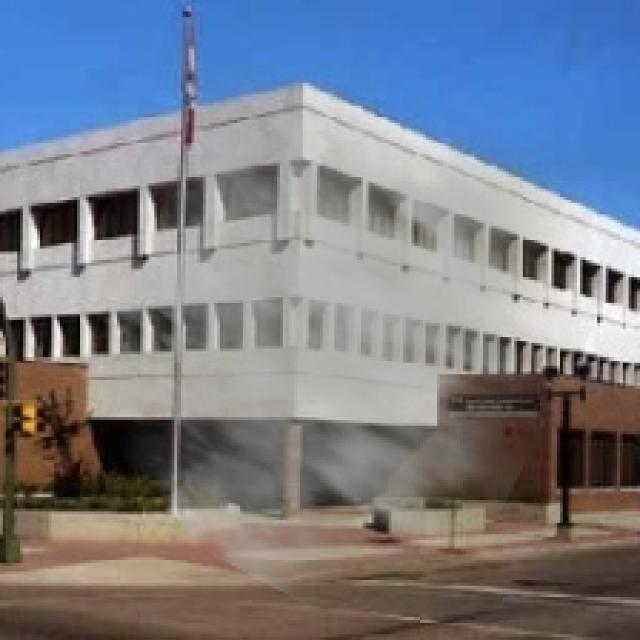smoke: (66, 60, 634, 623)
